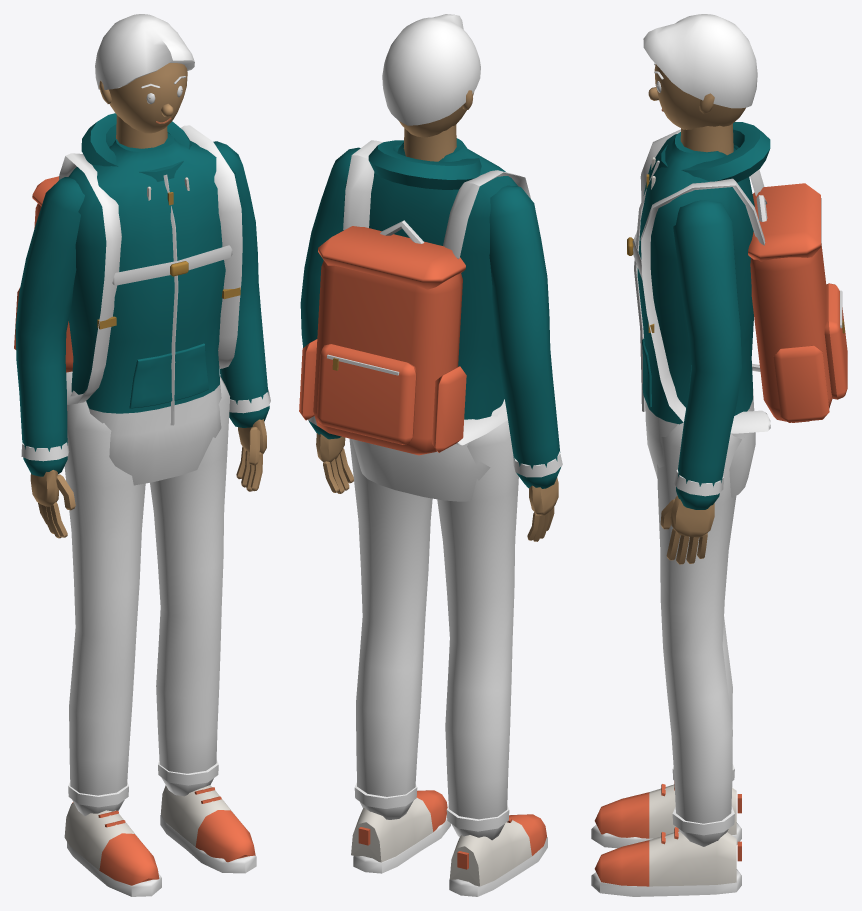
Rendered from passenger_a.fbx.
The picture shows the model from 3 angles, left to right: view 1: azimuth 30°, elevation 25°; view 2: azimuth 150°, elevation 25°; view 3: azimuth 270°, elevation 25°; orthographic projection. The views are drawn at different scales.
Visible parts, largest first — view 1: Body; view 2: Body; view 3: Body.
Part boxes in pixels (bbox=[...]): Body: bbox=[14, 14, 270, 896]; Body: bbox=[299, 14, 562, 896]; Body: bbox=[591, 14, 847, 896].
Size of the model in its own units: 0.5218 by 1.7 by 0.4674.
